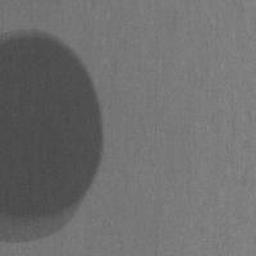Oil spot: (0, 26, 105, 244)
